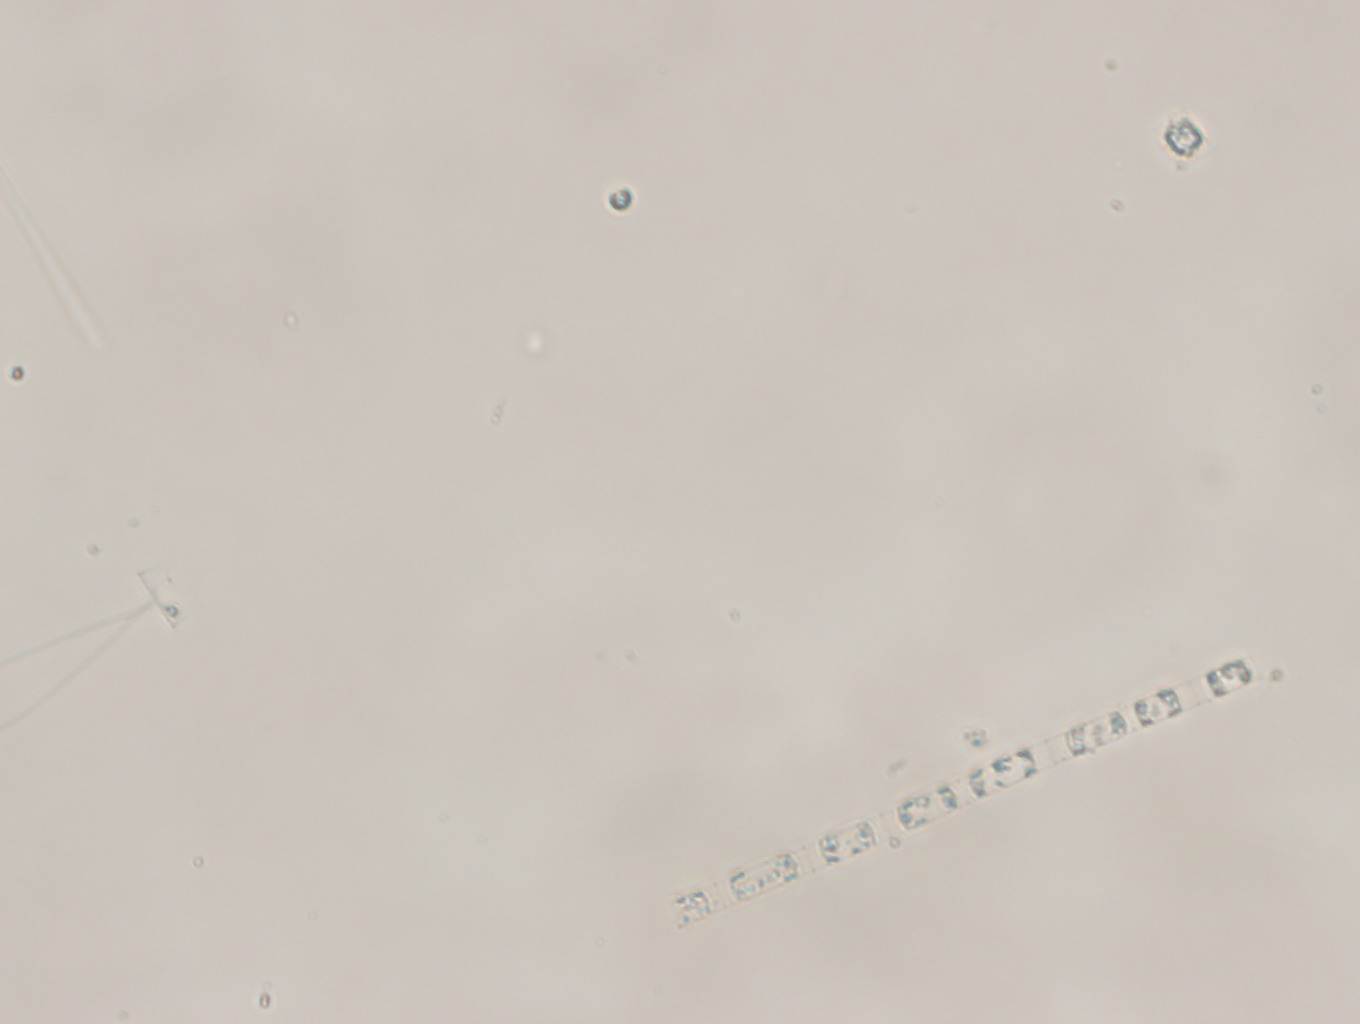skeletonema: (658, 649, 1259, 933)
